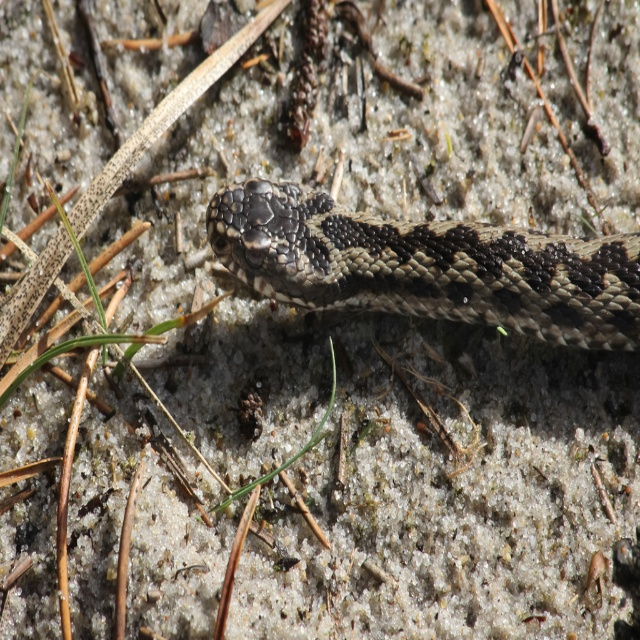Snake: (206, 174, 640, 349)
